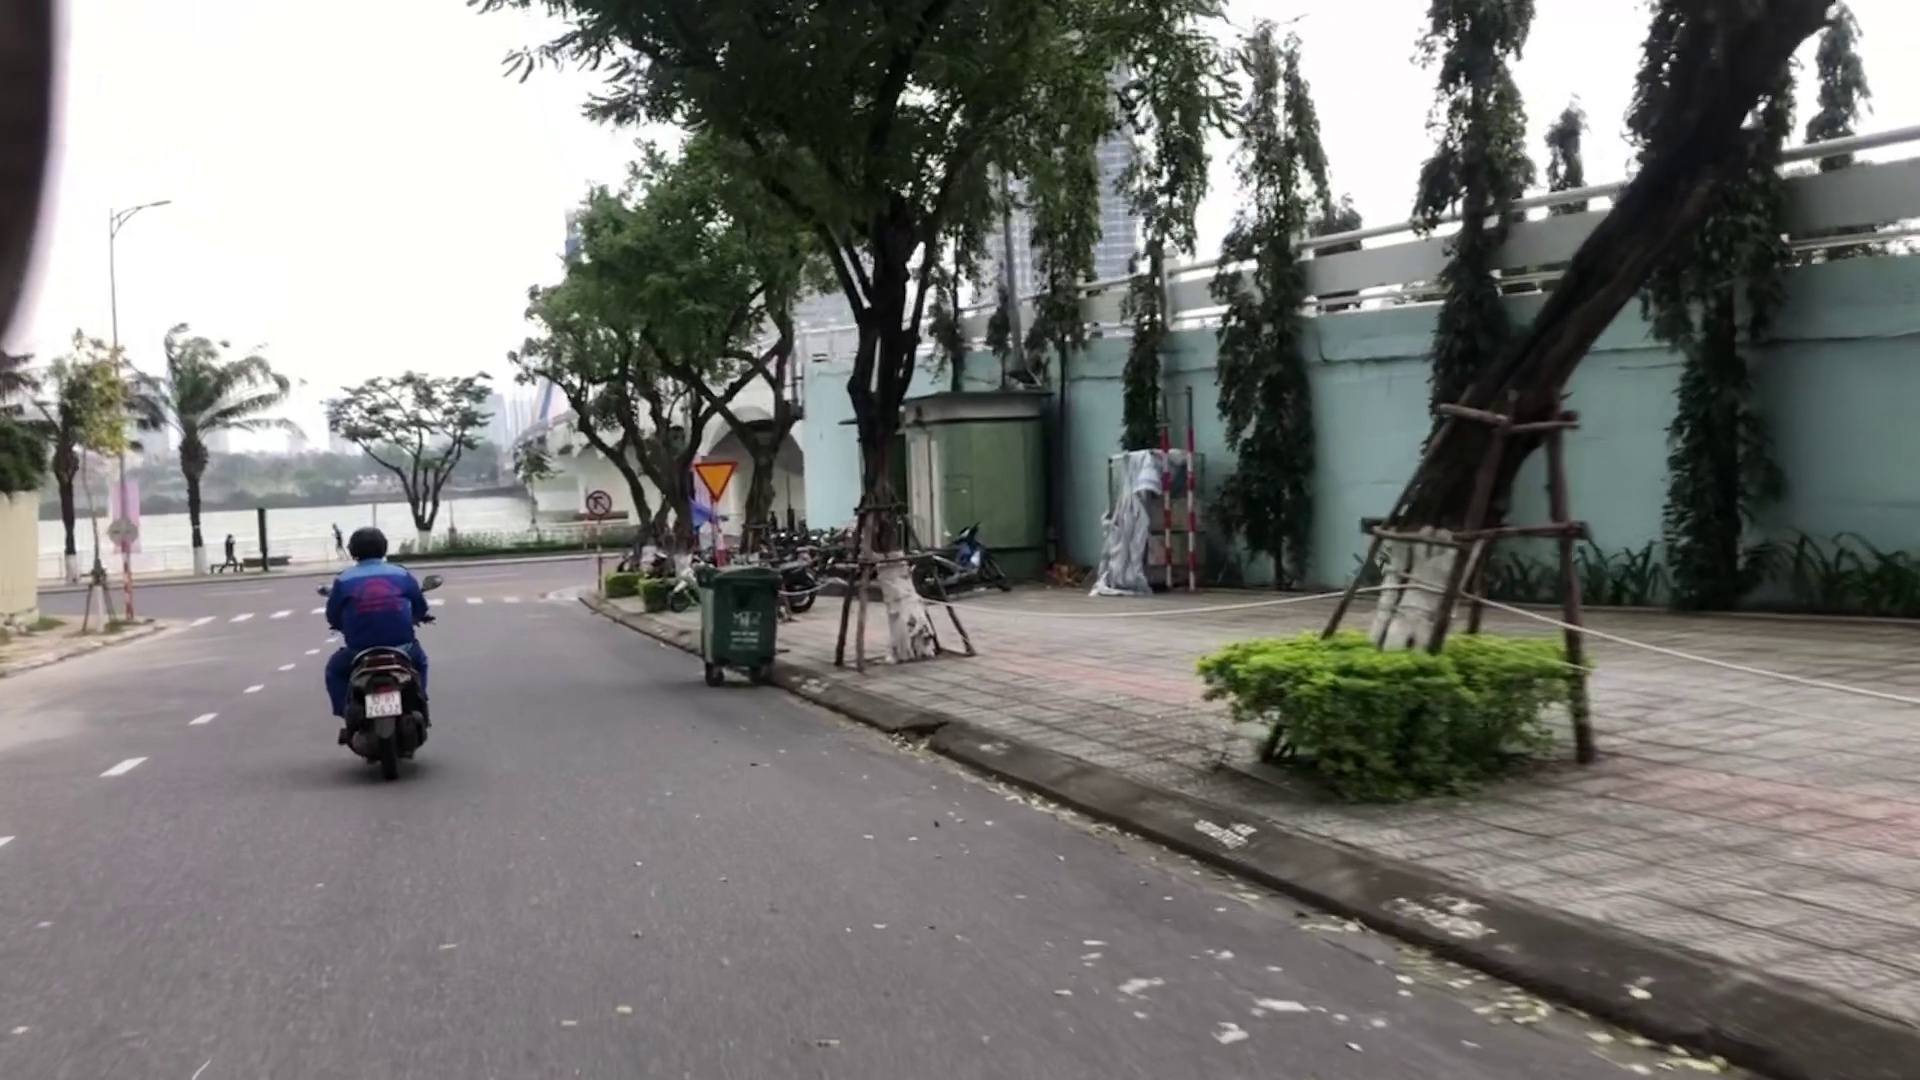Bien khac: (695, 458, 735, 502), (585, 484, 615, 521)
